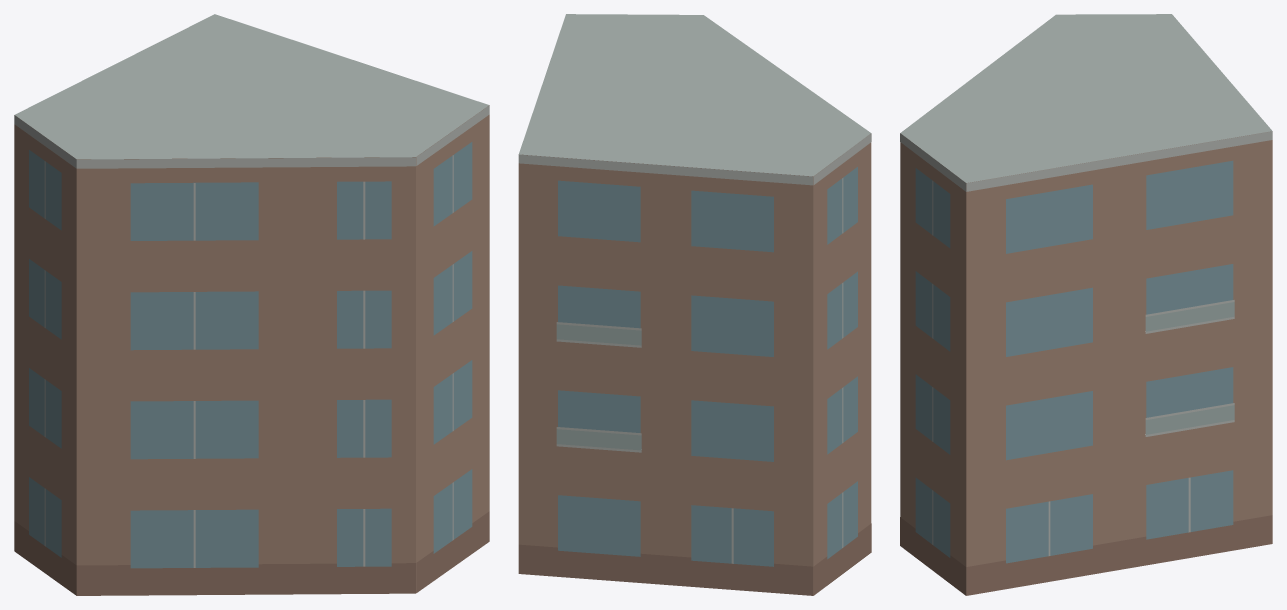
Rendered from survey-upis-33027533.glb.
3 renders of one model, left to right at view 1: azimuth 30°, elevation 25°; view 2: azimuth 150°, elevation 25°; view 3: azimuth 270°, elevation 25°, orthographic. The views are drawn at different scales.
Visible parts, largest first — view 1: survey-upis-33027533.tmp; view 2: survey-upis-33027533.tmp; view 3: survey-upis-33027533.tmp.
Boxes of the visible parts, x1=… form: survey-upis-33027533.tmp: x1=14, y1=14, x2=489, y2=595; survey-upis-33027533.tmp: x1=518, y1=14, x2=871, y2=595; survey-upis-33027533.tmp: x1=900, y1=14, x2=1272, y2=595.
Bounding box in the file's own units: 10.02 × 11.4 × 9.33.
